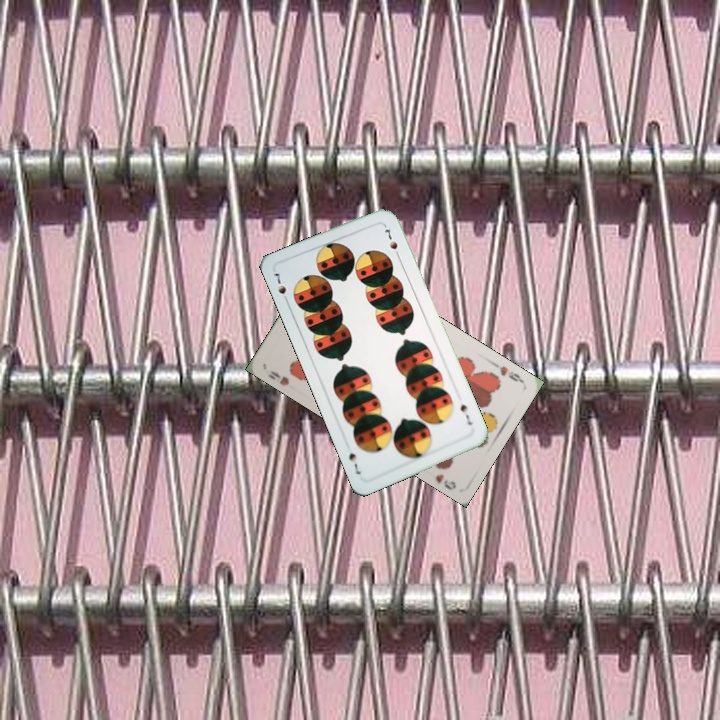H9: (489, 358, 525, 385), (264, 366, 292, 388)
S7: (270, 269, 291, 306), (456, 400, 475, 428)
